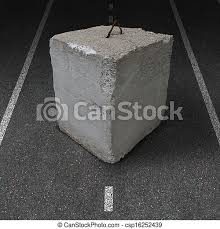obstacle: (43, 18, 174, 161)
